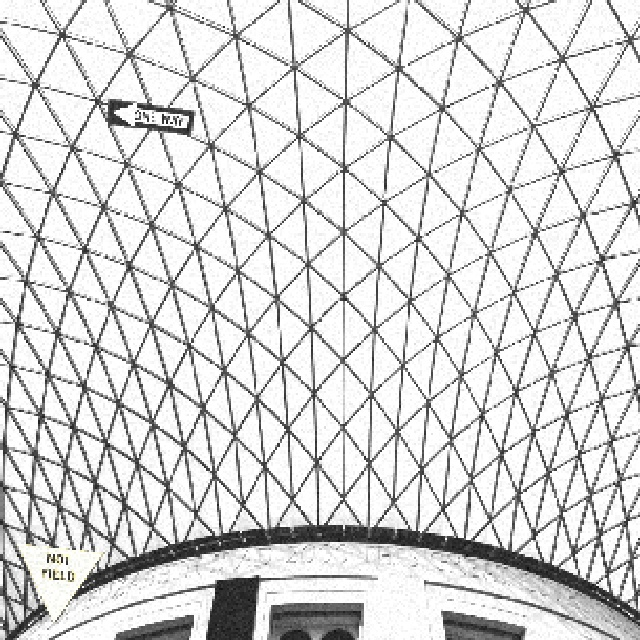NOT_YIELD: (14, 541, 103, 623)
ONE_WAY_ left: (105, 96, 194, 134)
